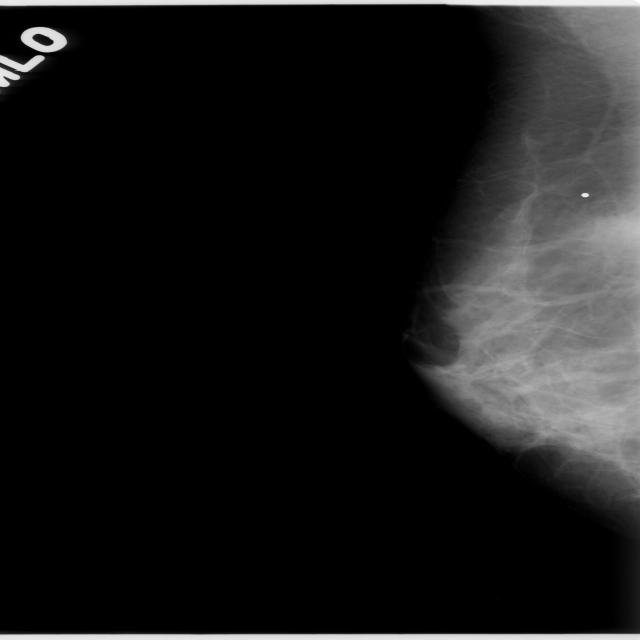cancer: (431, 200, 640, 453)
